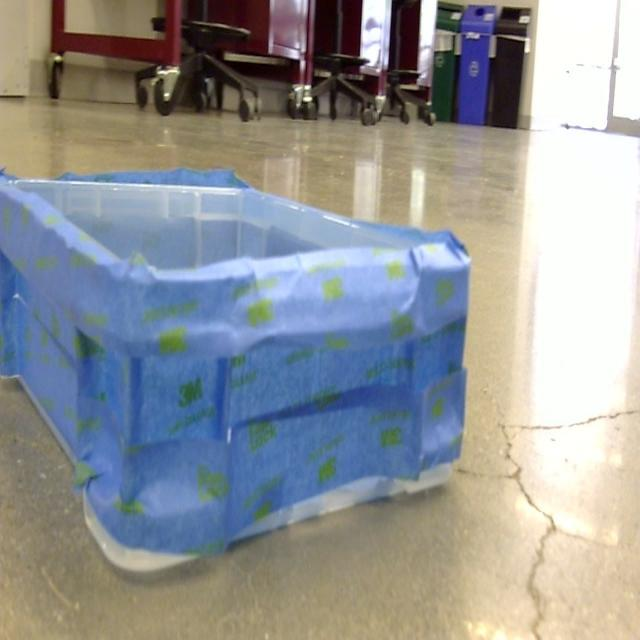bucket: (0, 169, 472, 581)
